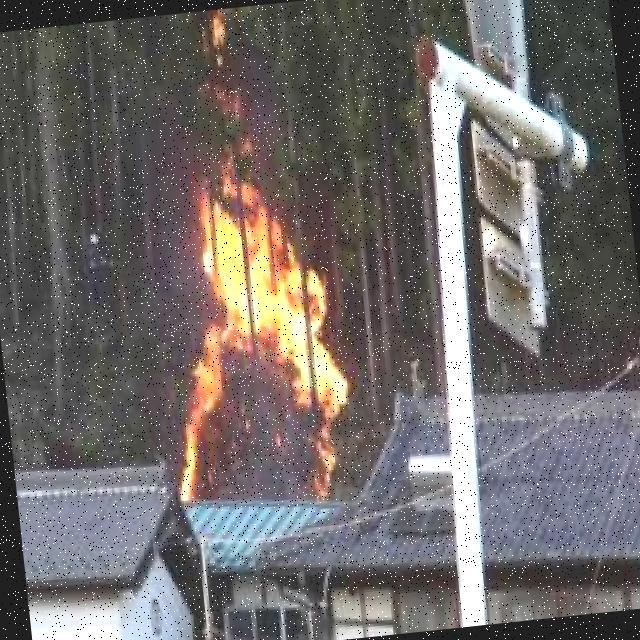Fire: (143, 77, 347, 506)
